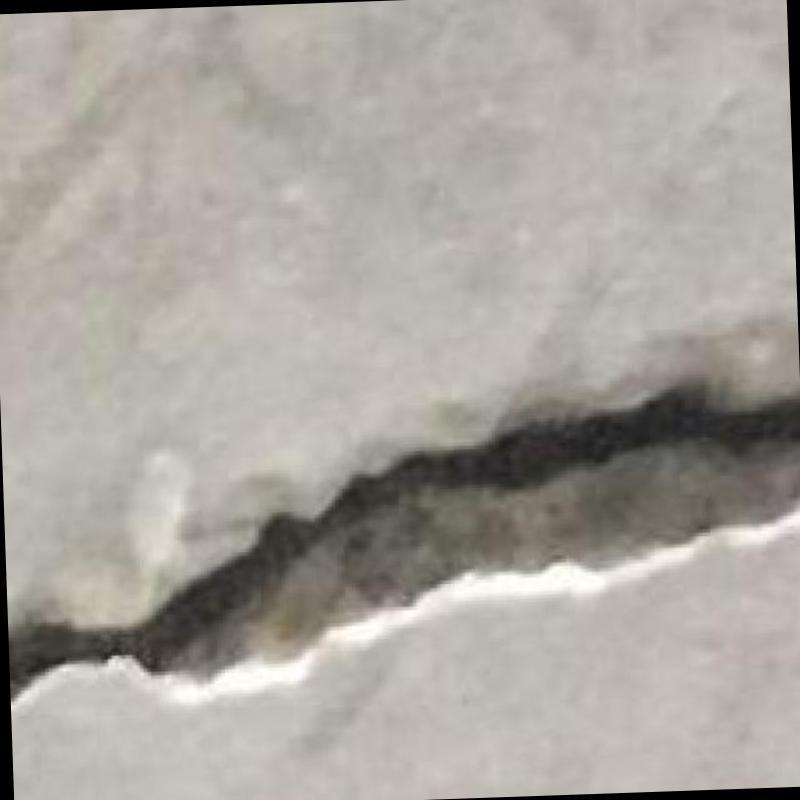pothole: (8, 385, 800, 700)
